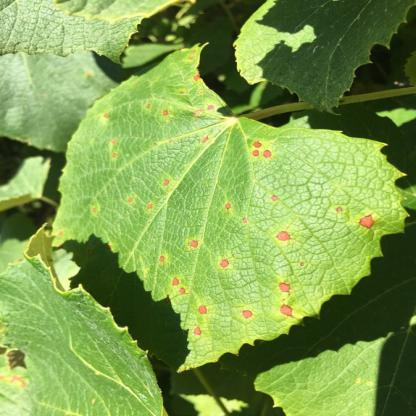grape leaf black rot: (56, 44, 412, 374)
